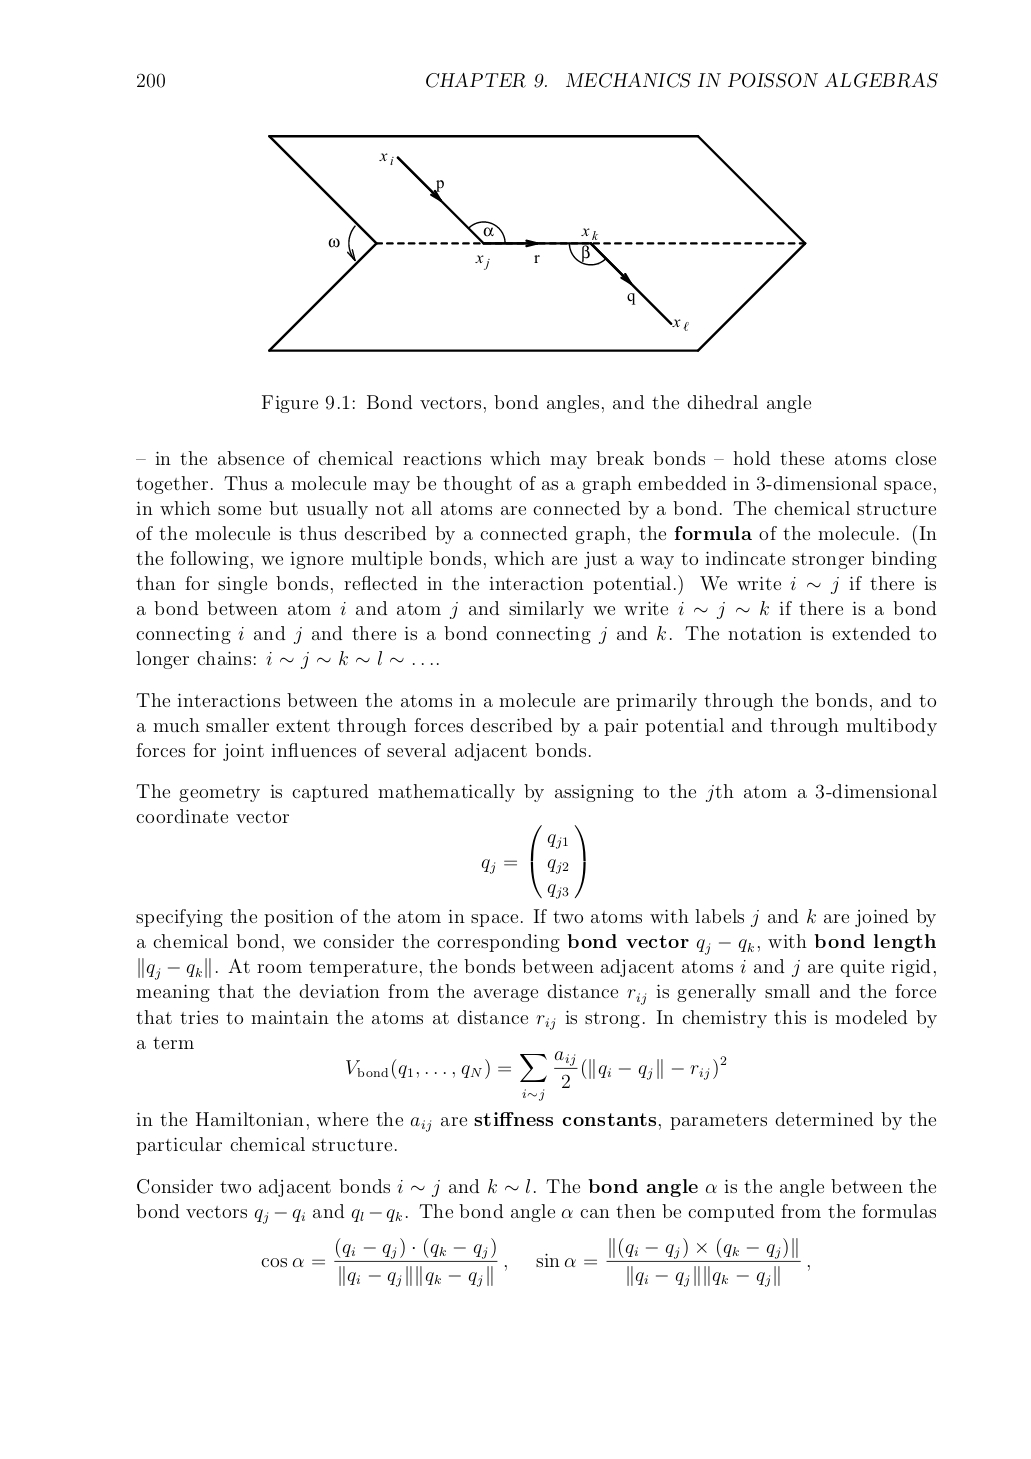figure: (268, 134, 806, 352)
formula: (261, 1237, 809, 1287), (346, 1051, 726, 1100), (481, 825, 585, 898)
